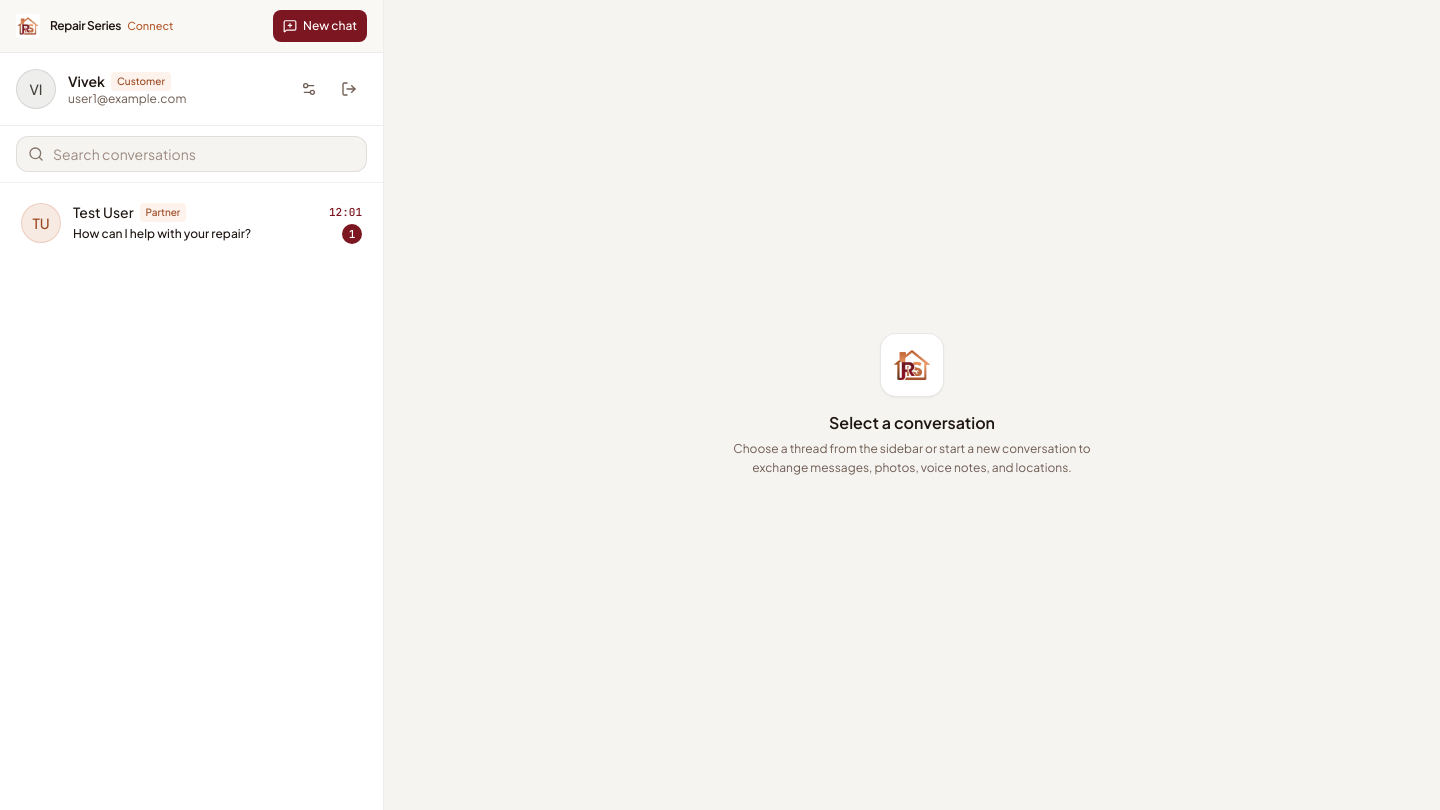
Test case: RepairChat SDK & Chat Flow › renders conversations, sends real-time text messages, confirms location before sharing, shows typing indicator, and omits online status
Later steps or results of the test are not shown.
Expected: the text "Vivek" is shown, left=68, top=71, right=105, bottom=91
Expected: the text named "1 unread messages" is shown, left=342, top=224, right=362, bottom=244
# Open conversation
Click the text "Test User": [103, 212] box left=73, top=202, right=134, bottom=222
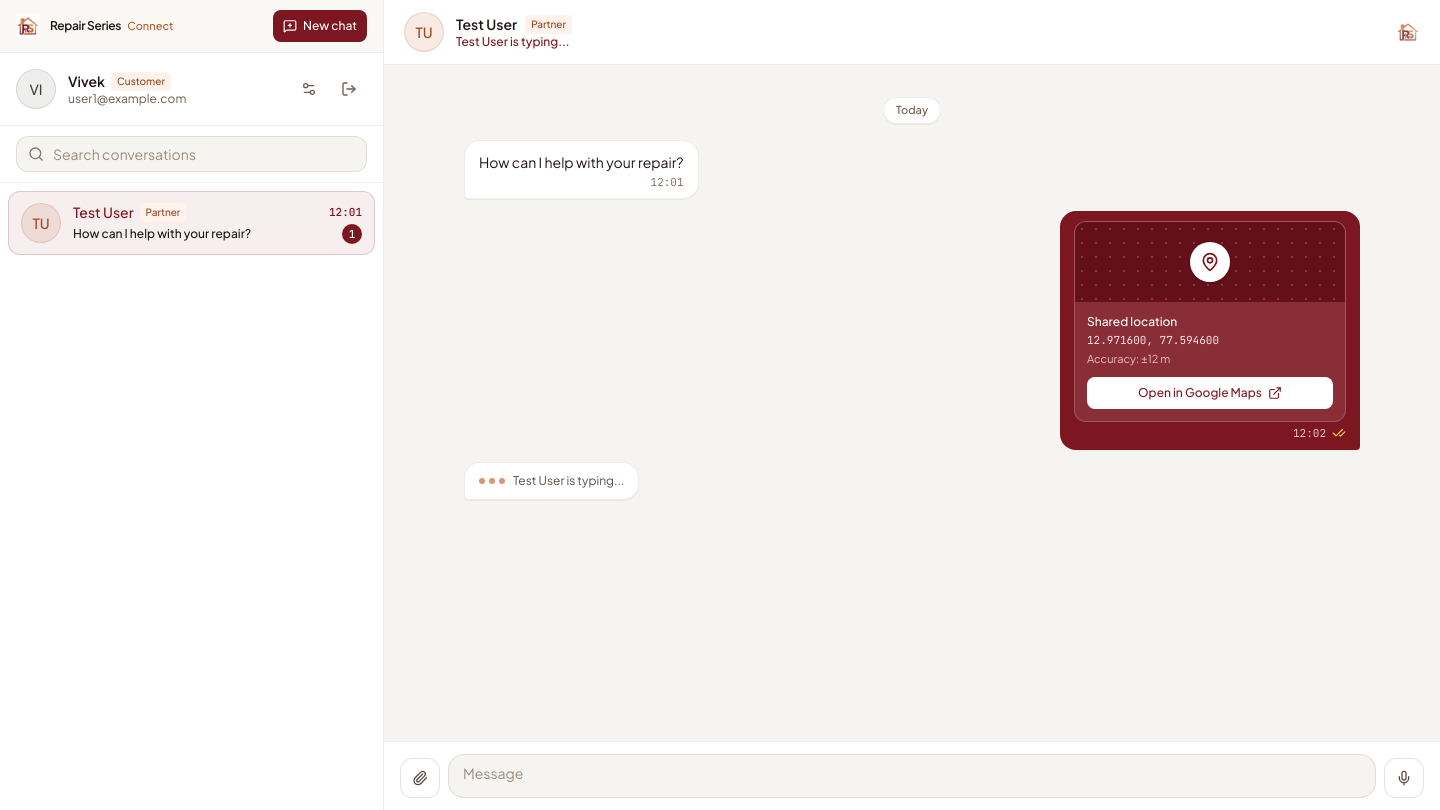
Now the text "Test User is typing..." is shown 2 times, box left=456, top=34, right=570, bottom=49; left=513, top=473, right=624, bottom=489
# Send a text message
In the text box with placeholder "Message": [912, 773] box left=463, top=763, right=1361, bottom=783, type "On my way now"
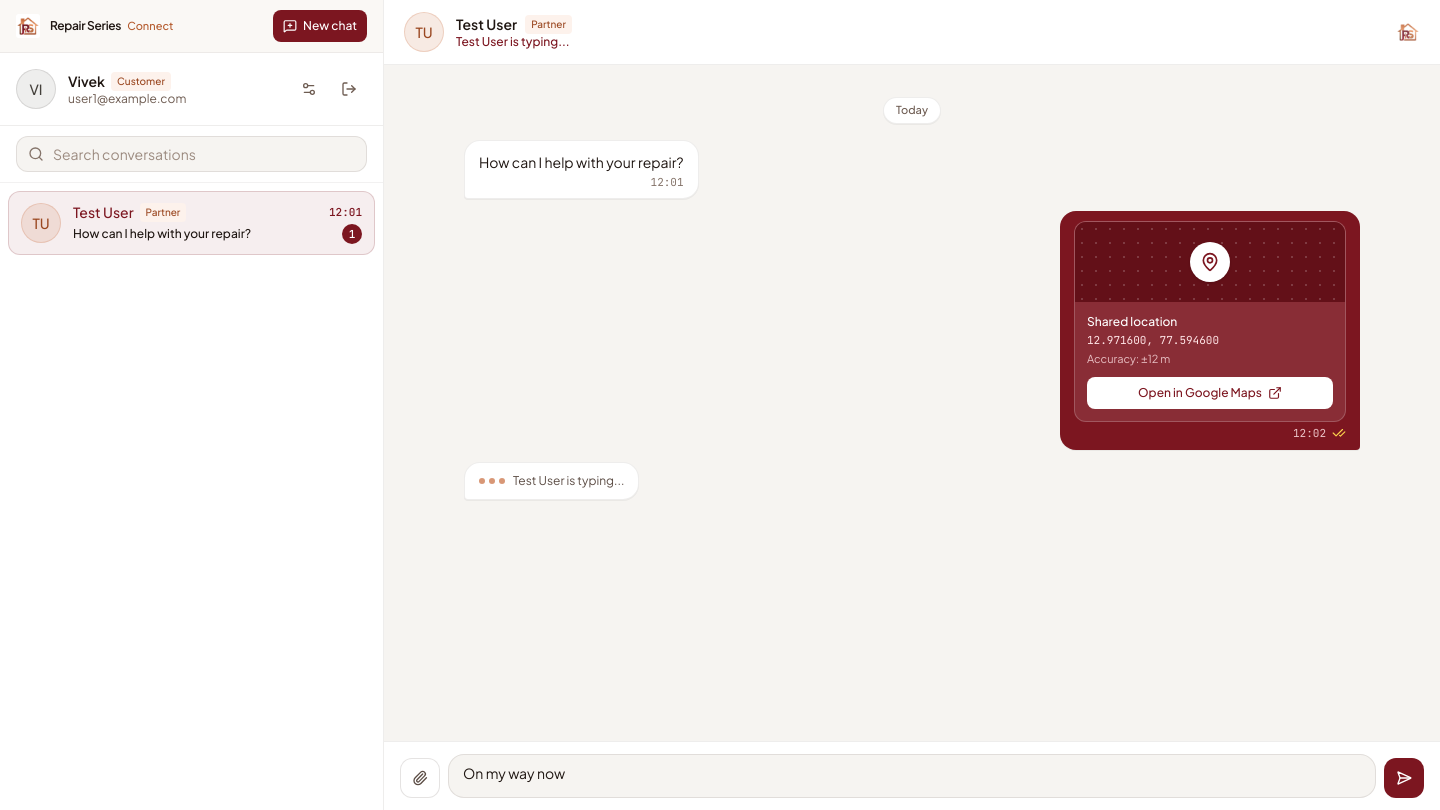
Click the button named "Send message": [1404, 778] box left=1384, top=758, right=1424, bottom=798
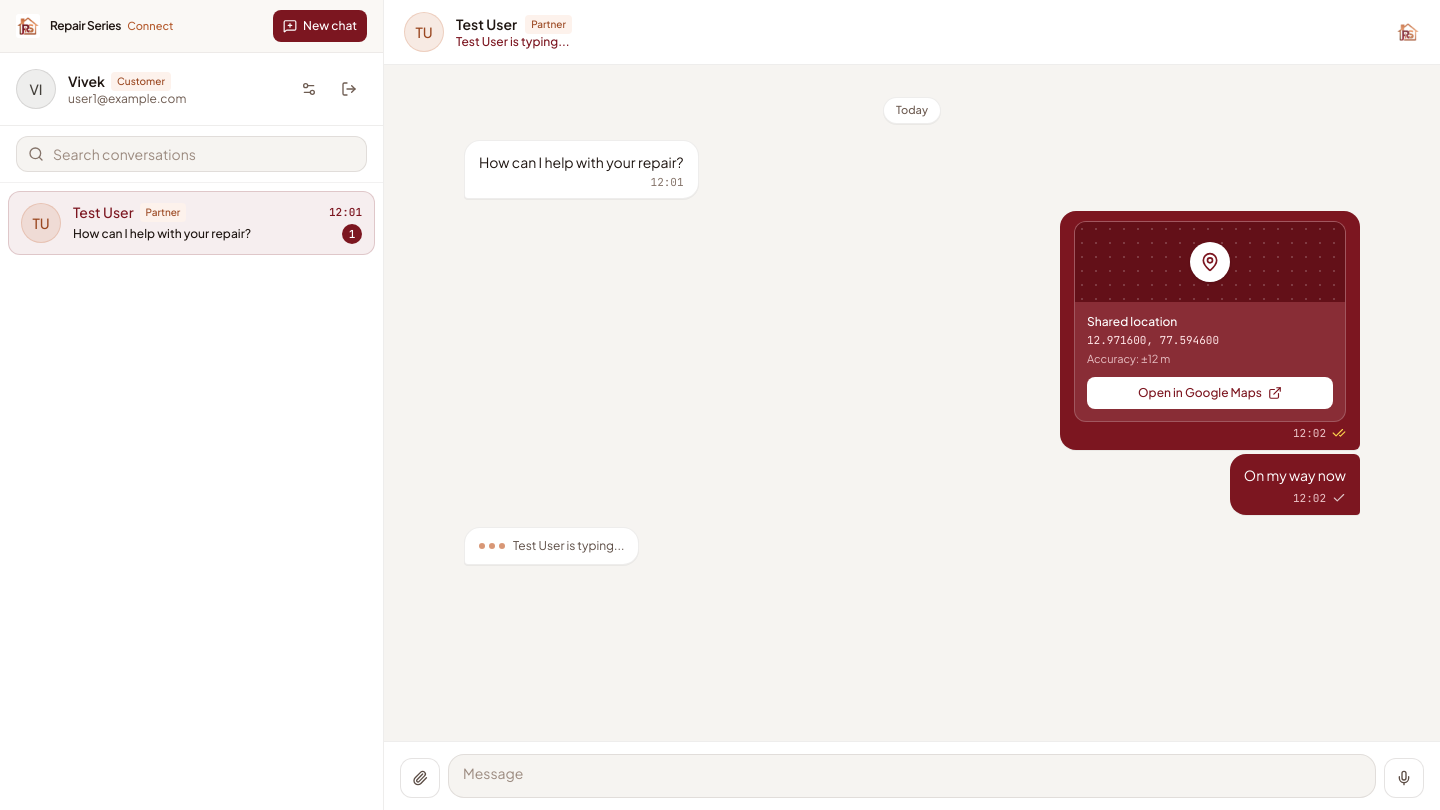
Now the text "On my way now" is shown, box left=1244, top=464, right=1346, bottom=487
# Location sharing requires explicit user confirmation modal before sending
Click the button named "Attach image or location": [420, 778] box left=400, top=758, right=440, bottom=798
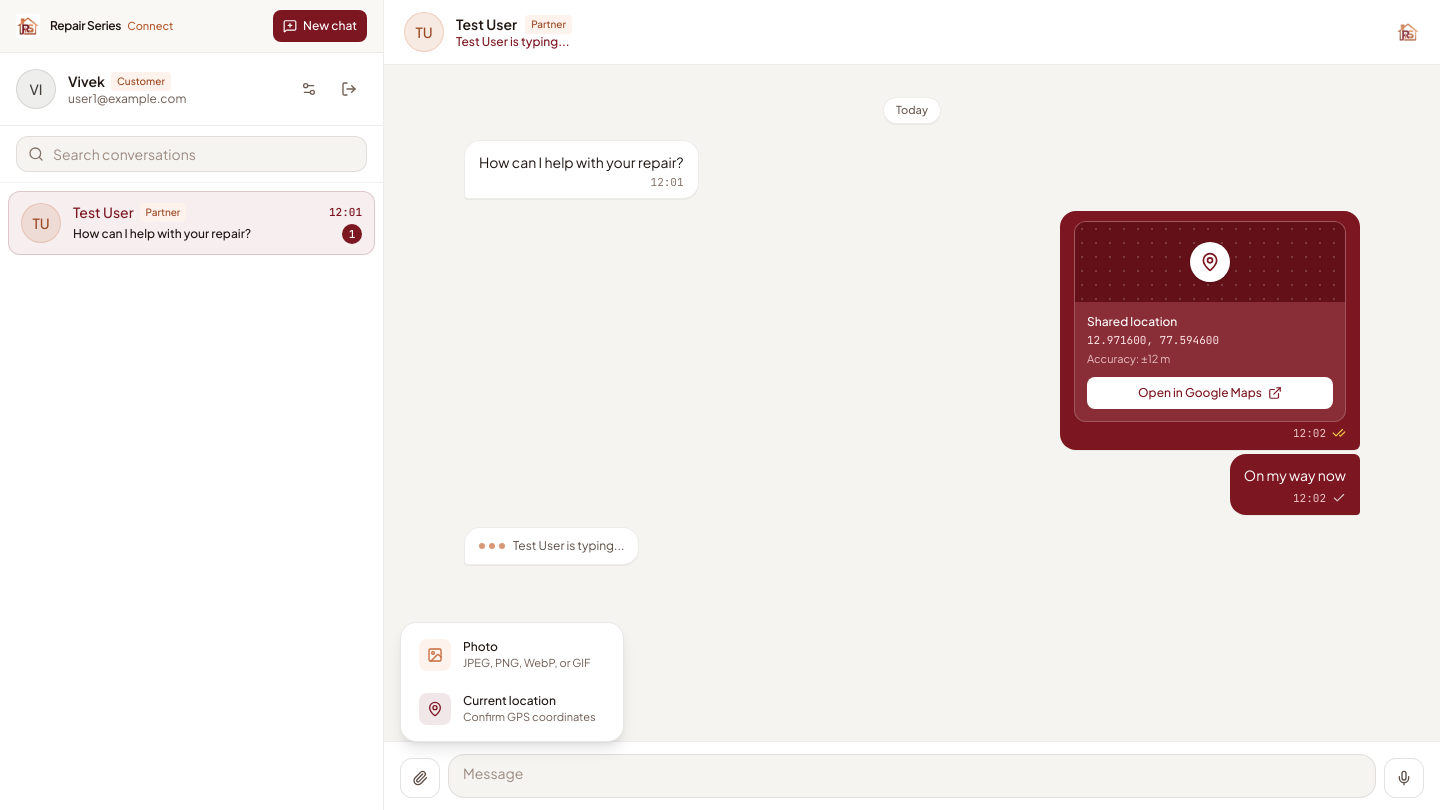
Click the menu item "Current location Confirm GPS coordinates": [512, 709] box left=407, top=683, right=617, bottom=735
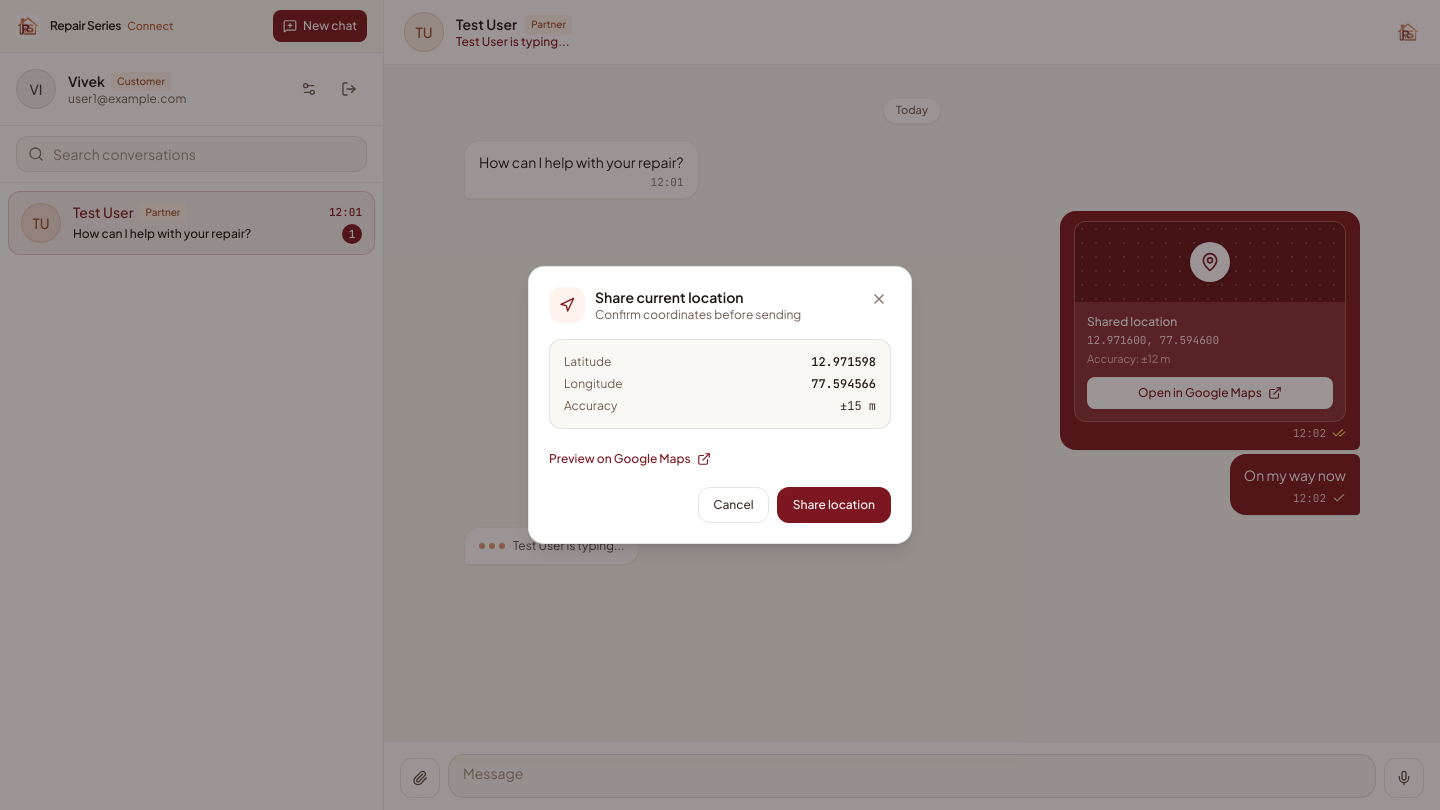
Now the dialog named "Confirm location sharing" is shown
